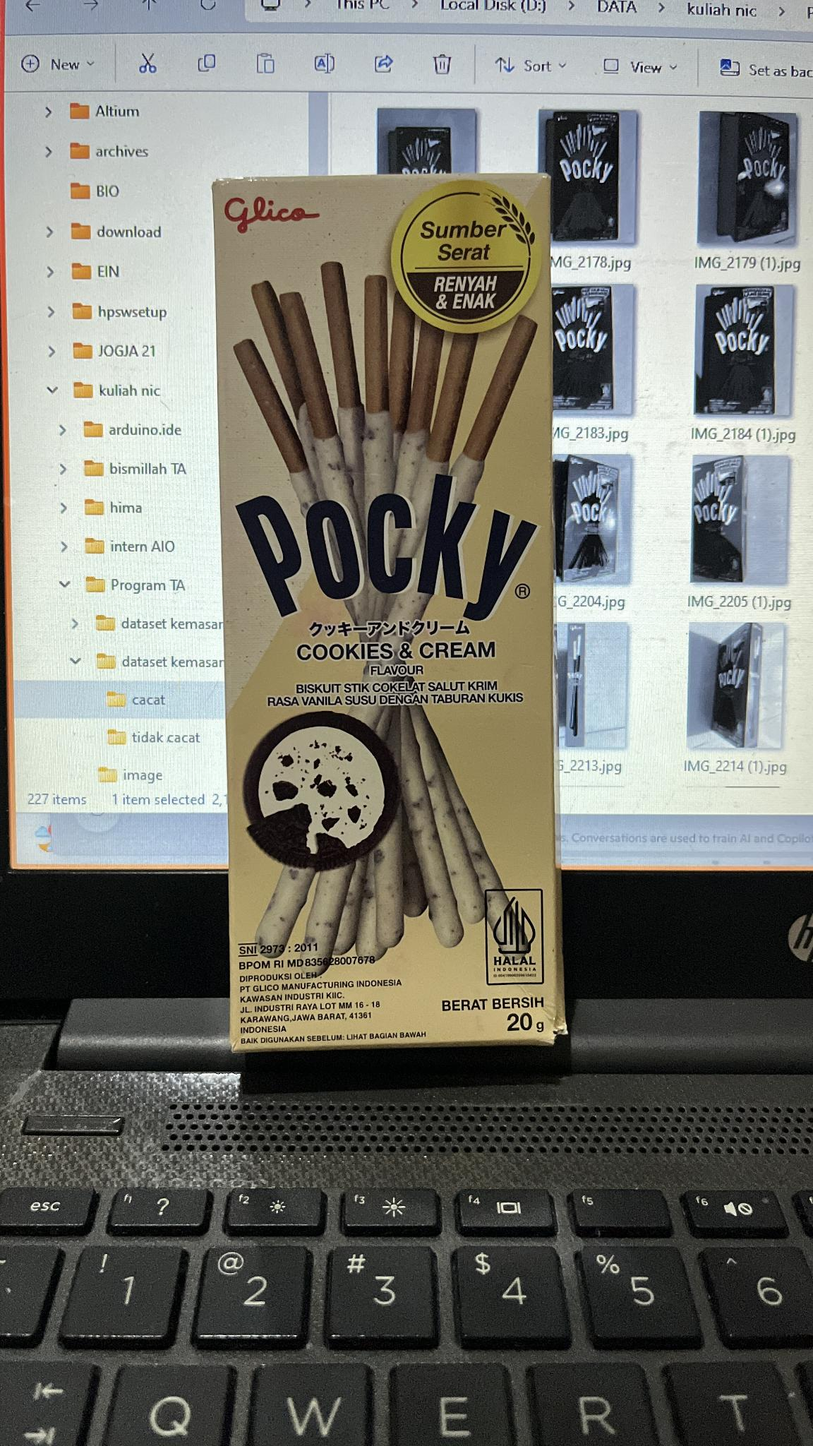Kertas: (219, 172, 548, 1036)
